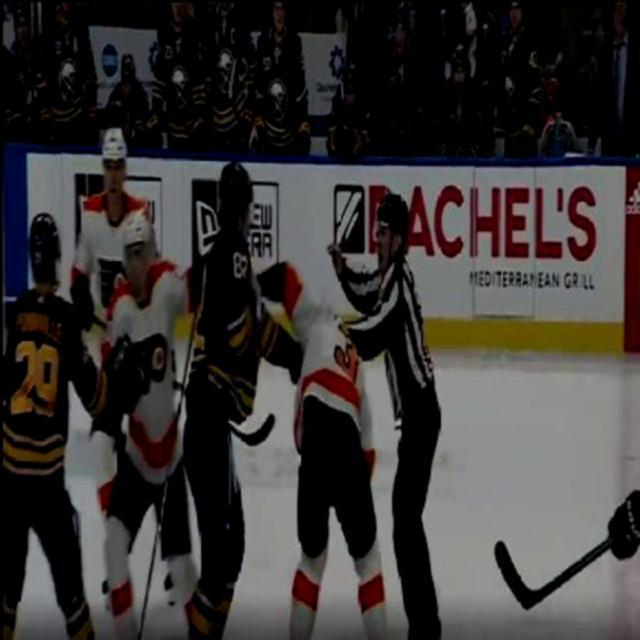fight: (186, 163, 377, 640)
